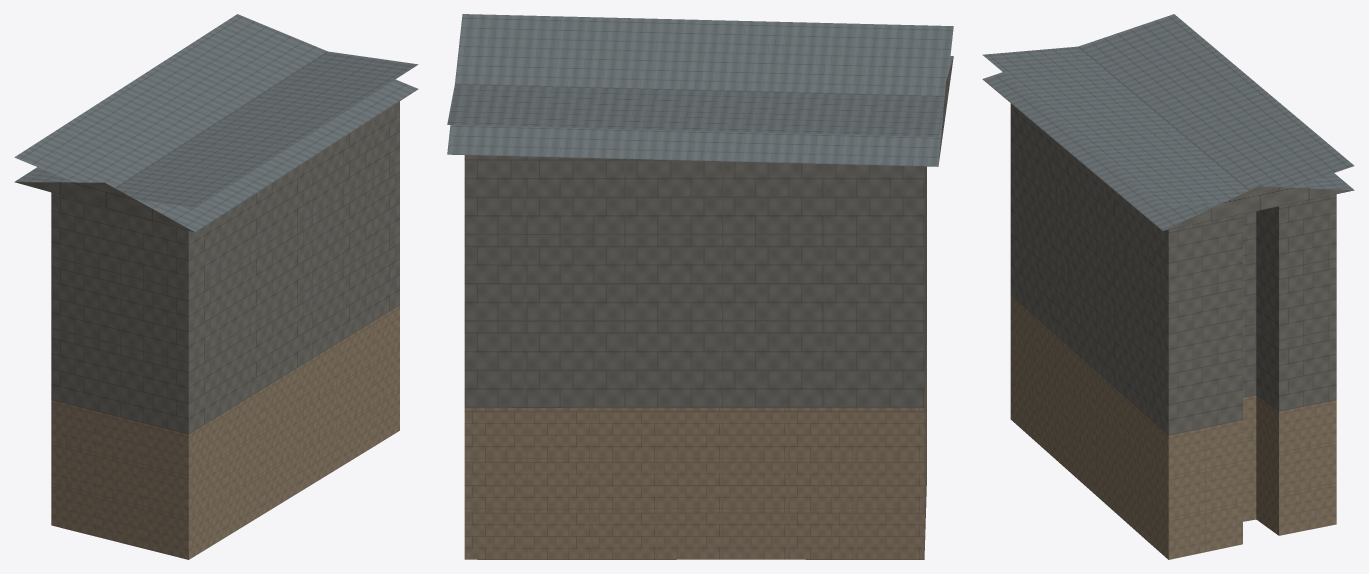
File: bld_c9_11_494.gltf
3 renders of one model, left to right at view 1: azimuth 30°, elevation 25°; view 2: azimuth 150°, elevation 25°; view 3: azimuth 270°, elevation 25°, orthographic. The views are drawn at different scales.
Visible parts, largest first — view 1: bld_c9_11_494; view 2: bld_c9_11_494; view 3: bld_c9_11_494.
Part boxes in pixels (bbox=[...]): bld_c9_11_494: bbox=[14, 14, 418, 559]; bld_c9_11_494: bbox=[447, 14, 953, 559]; bld_c9_11_494: bbox=[982, 14, 1354, 559].
Bounding box in the file's own units: 16.95 × 14.8 × 13.85.
Materials: 4 (4 with a texture image).
